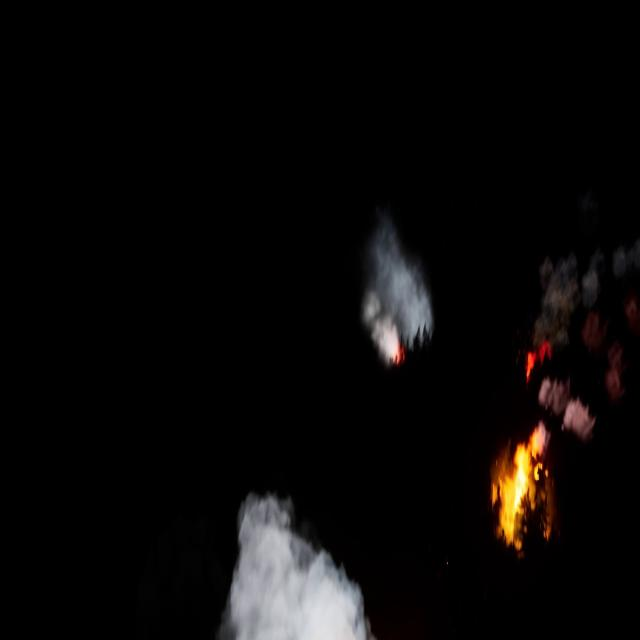fire: (491, 423, 552, 548)
smoke: (228, 486, 372, 639), (526, 242, 640, 434), (362, 227, 432, 361)
